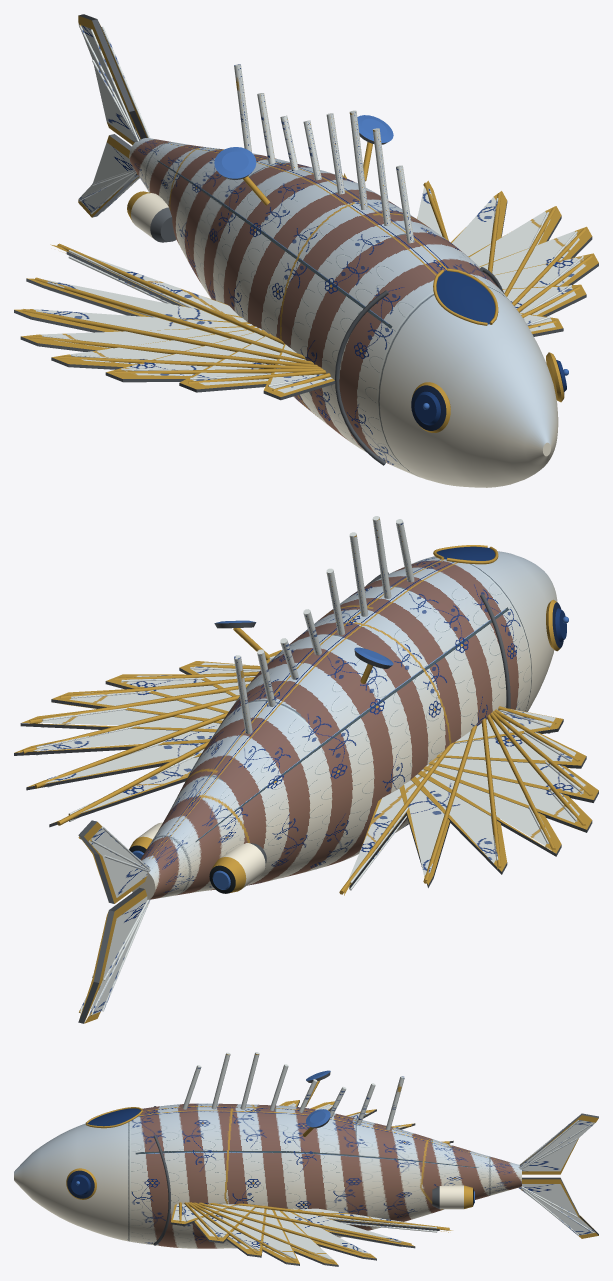
3 renders of one model, top to bottom at view 1: azimuth 30°, elevation 25°; view 2: azimuth 150°, elevation 25°; view 3: azimuth 270°, elevation 25°, orthographic. The views are drawn at different scales.
Parts seen in each view (by area): view 1: lionfish_hull; view 2: lionfish_hull; view 3: lionfish_hull.
Part boxes in pixels (left/top/right/bottom): lionfish_hull: left=14, top=14, right=598, bottom=487; lionfish_hull: left=14, top=516, right=598, bottom=1023; lionfish_hull: left=14, top=1052, right=598, bottom=1266.
Bounding box in the file's own units: 25.23 × 13.71 × 38.
1 material, 1 textured.
